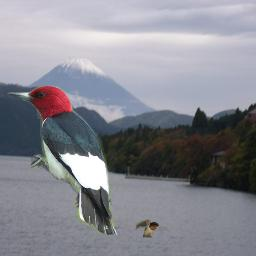Swallow: (135, 219, 159, 238)
Woodpecker: (6, 85, 121, 235)
